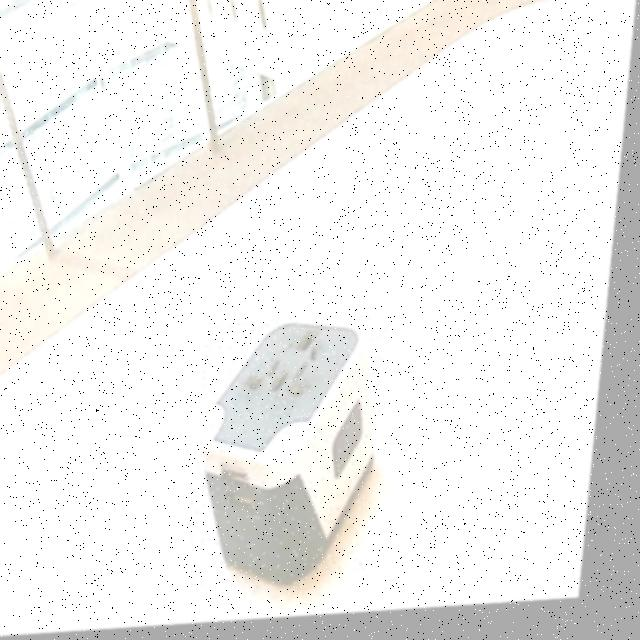adapter: (194, 315, 396, 595)
